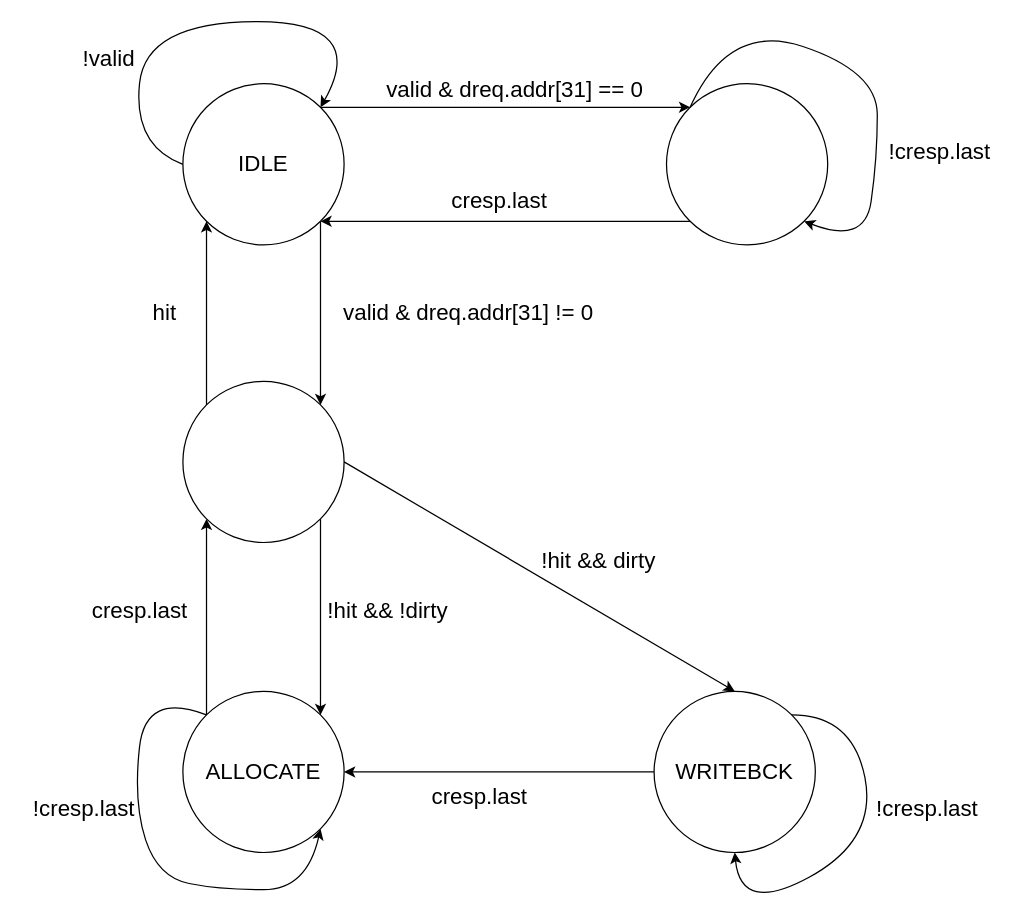
Image size: 1022x915. Some labels were removed from this diagram. Here are the shapes that lost their labels. From the top down, the centre of each, then its label:
pixel 746 163: UNCACHED
pixel 263 461: COMPARE
